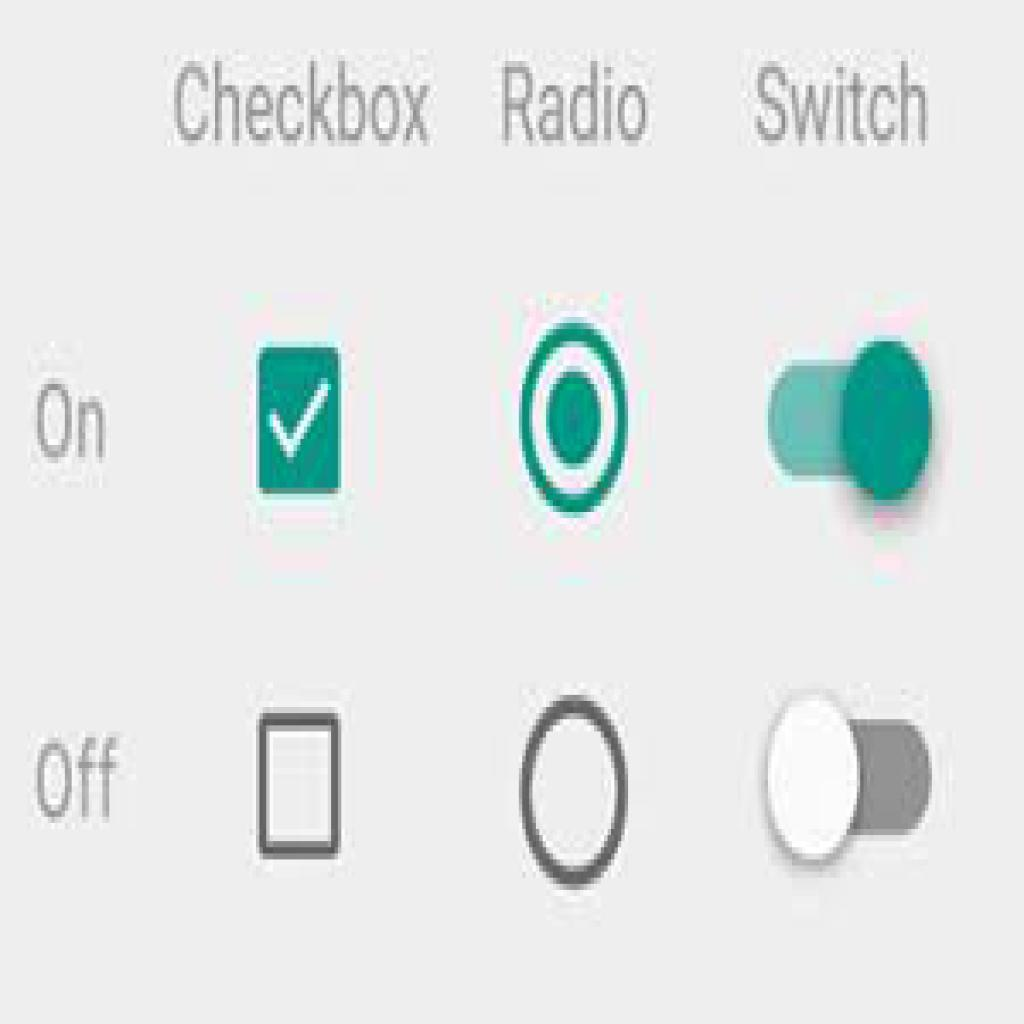checkbox: (258, 351, 345, 495), (260, 712, 345, 859)
radio: (511, 309, 646, 524), (518, 692, 637, 892)
switch: (755, 695, 940, 866), (762, 334, 942, 508)
